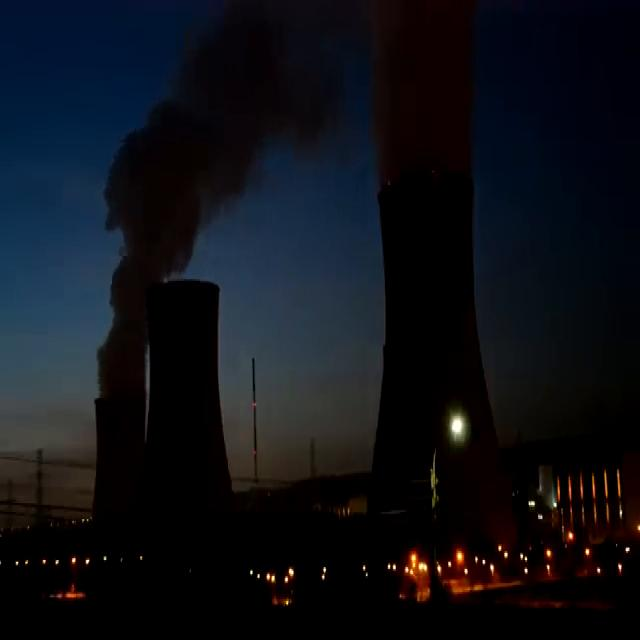smoke: (96, 0, 477, 430)
